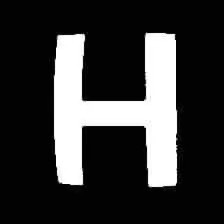LTR_H: (42, 17, 193, 191)
